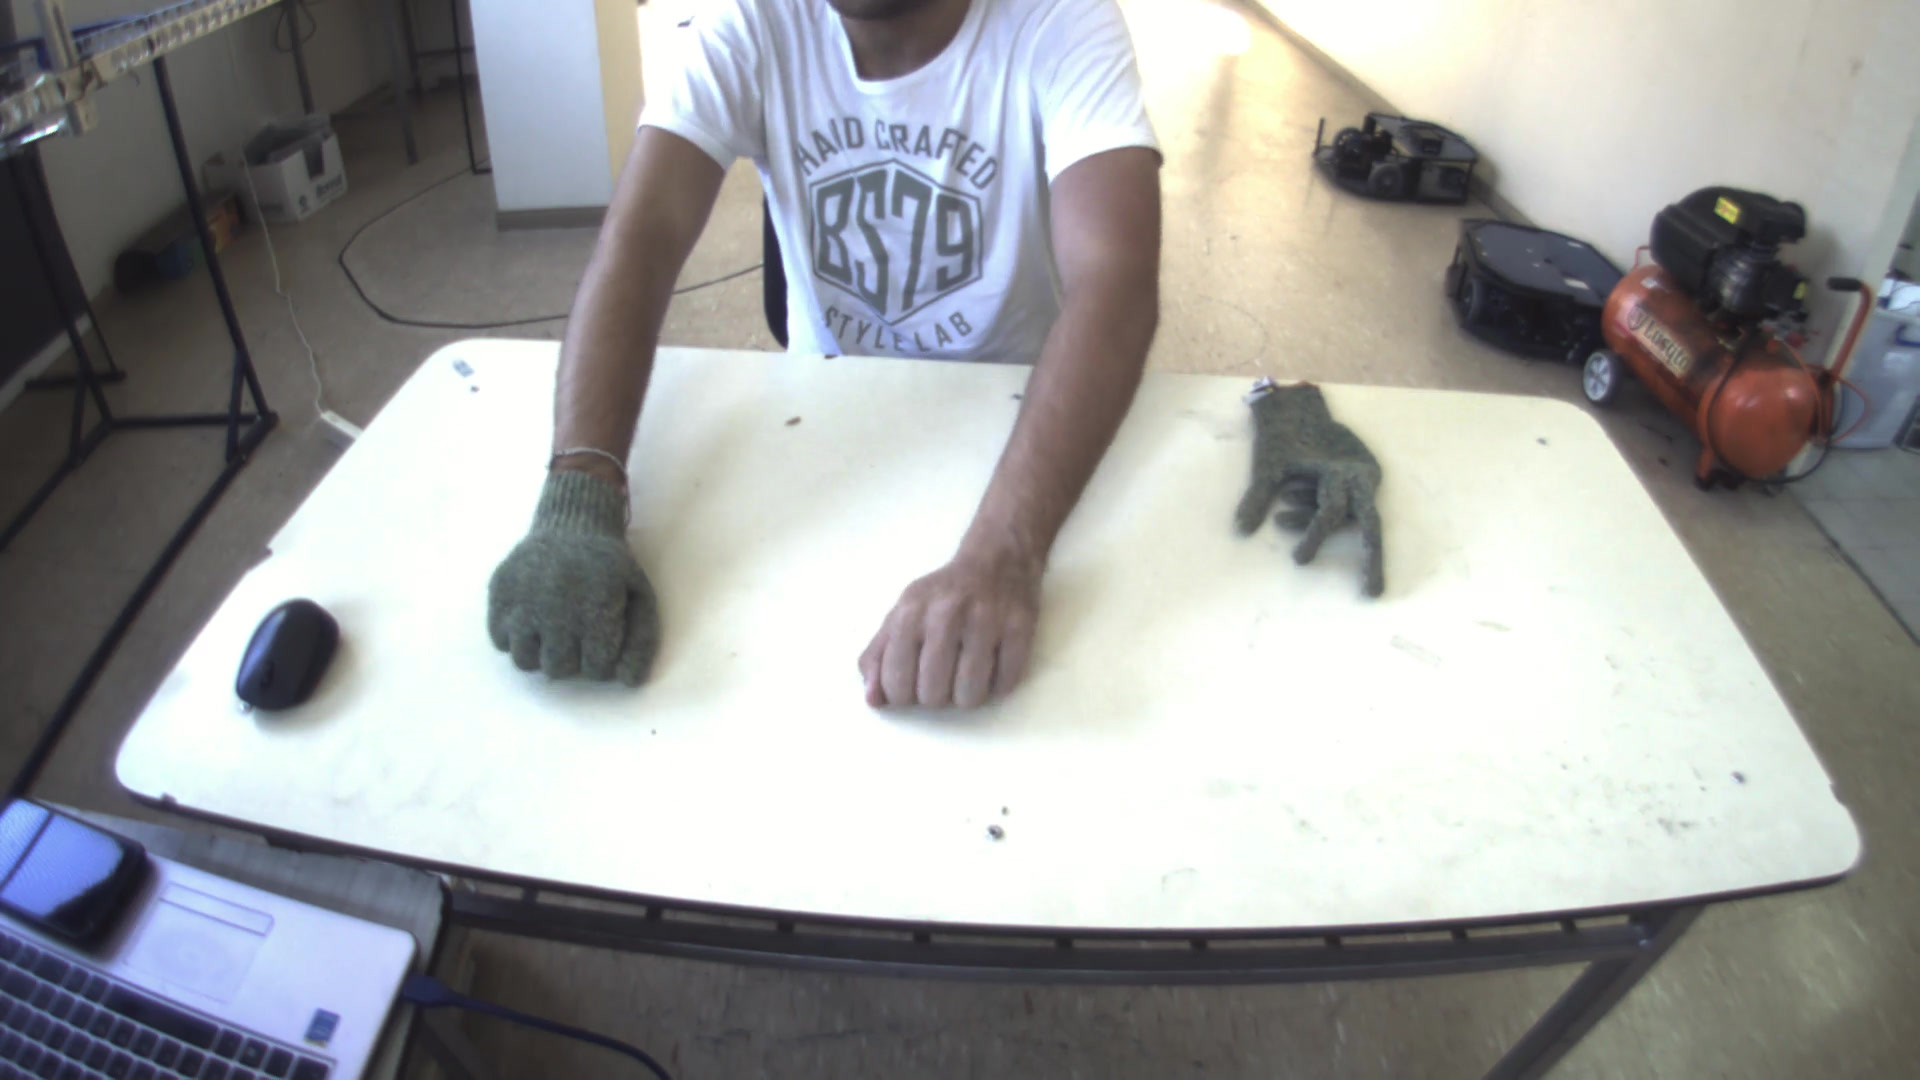hand: (473, 438, 650, 694), (851, 525, 1055, 712)
